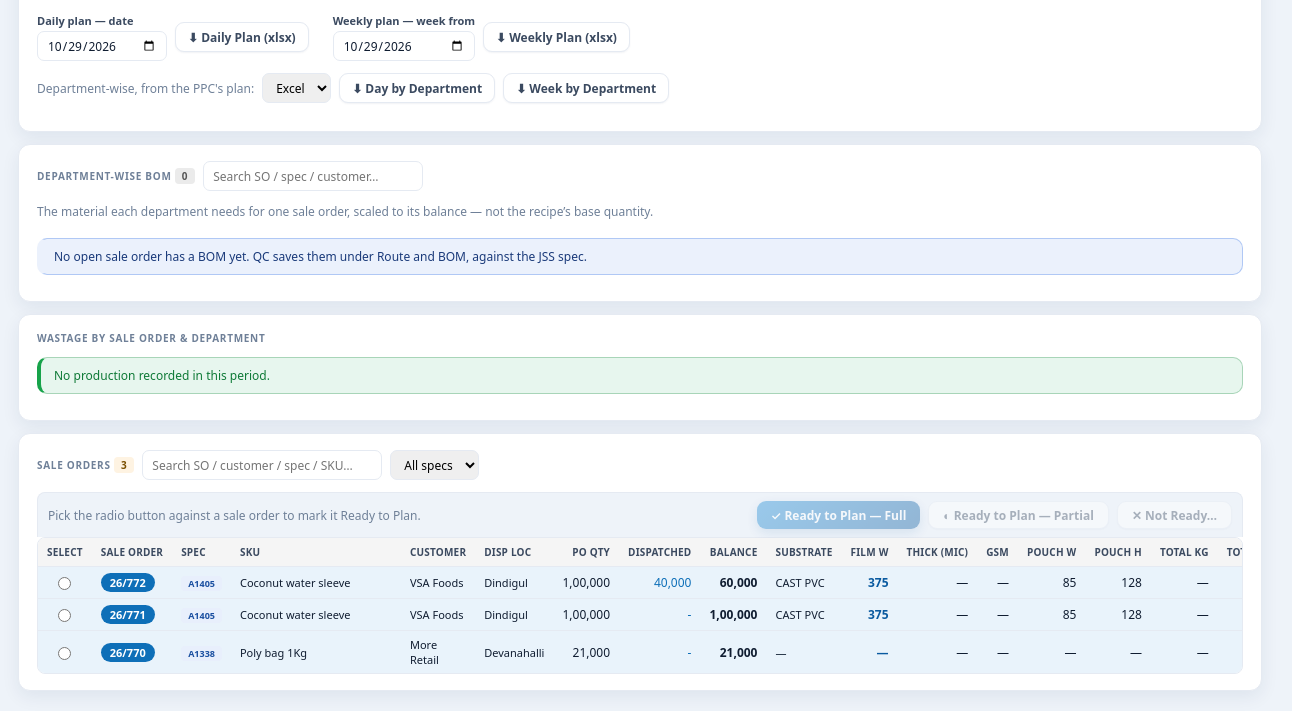
Test case: PLAN — the material a picked order needs › counts what is already assigned and says what is still to come
(page scrolled)
Expected: the text "Sale orders 3" is shown, [37,457,134,473]
Click the radio button named "Select 26/771" at (65, 616), box [58,609,71,622]
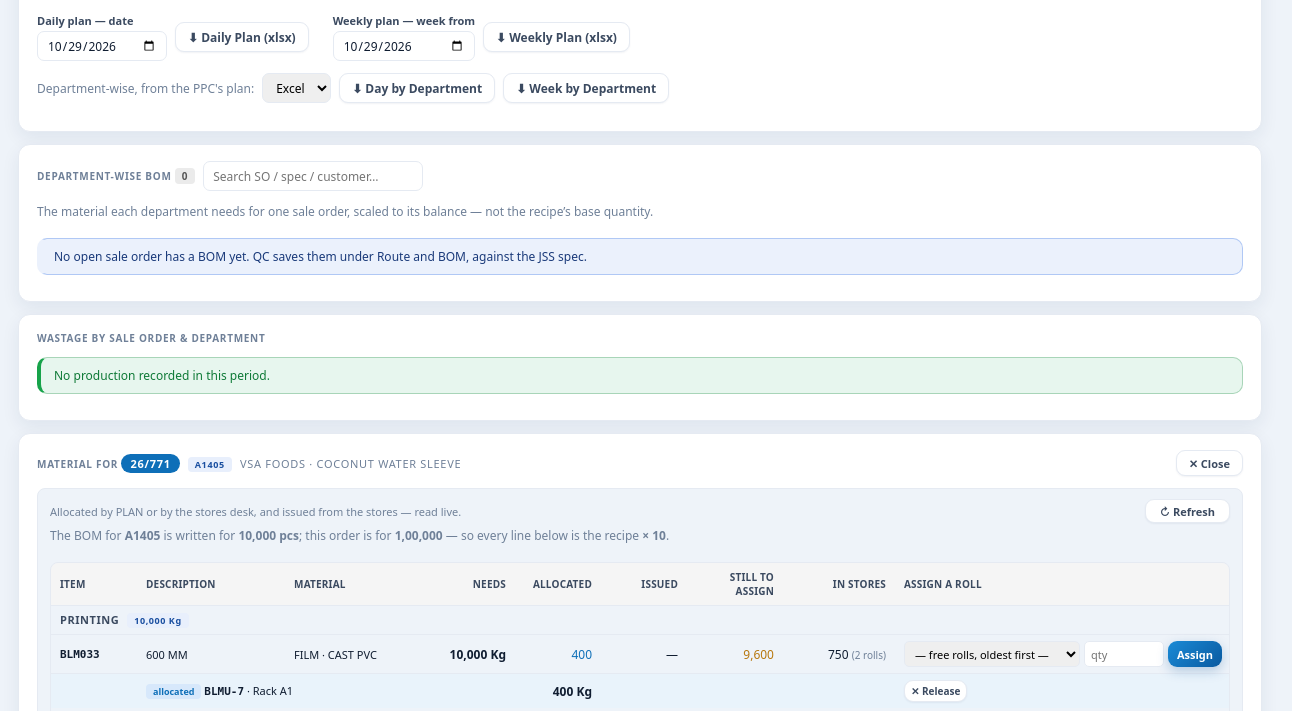
Now the text "400" is shown, box [515,634,601,674]
Now the text "9,600" is shown, box [687,634,783,674]
Now the text "BLMU-7" is shown, box [204,685,244,698]
